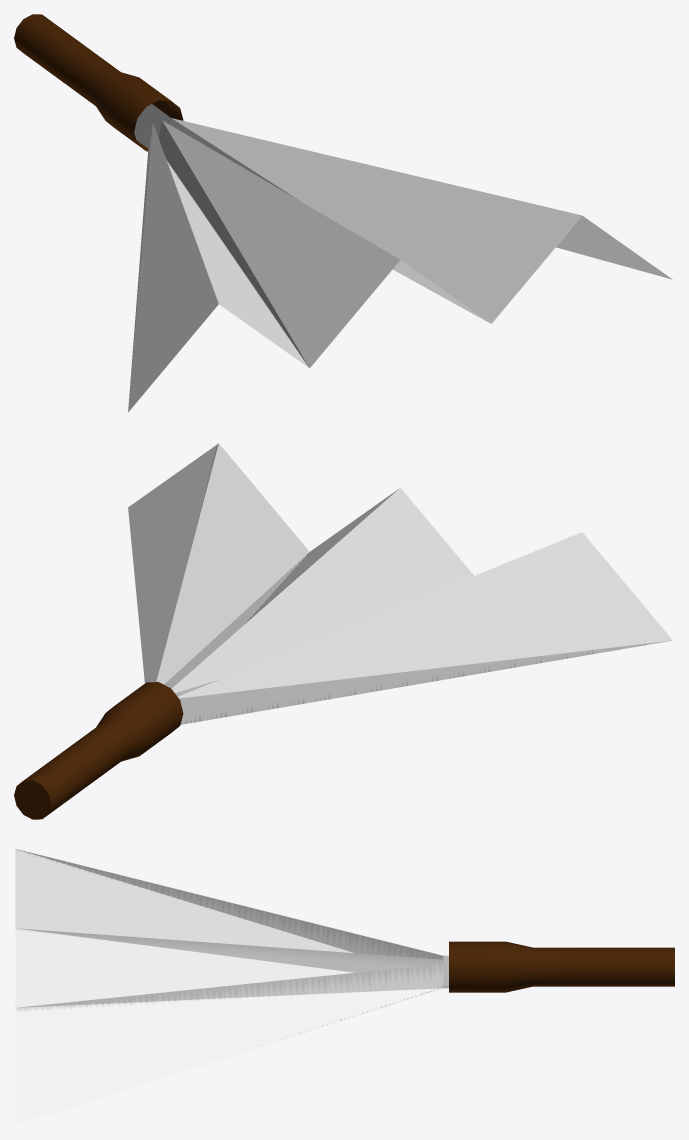
Rendered from Fan.FBX.
The picture shows the model from 3 angles, top to bottom: view 1: azimuth 30°, elevation 25°; view 2: azimuth 150°, elevation 25°; view 3: azimuth 270°, elevation 25°; orthographic projection. The views are drawn at different scales.
Visible parts, largest first — view 1: FanTop, Handle; view 2: FanTop, Handle; view 3: FanTop, Handle.
Part boxes in pixels (bbox=[...]): FanTop: bbox=[128, 104, 672, 412]; Handle: bbox=[14, 14, 183, 151]; FanTop: bbox=[128, 443, 672, 724]; Handle: bbox=[14, 682, 183, 819]; FanTop: bbox=[15, 849, 448, 1124]; Handle: bbox=[449, 941, 674, 992].
Size of the model in its own units: 76.58 by 89.39 by 11.6.
2 materials, 2 textured.
